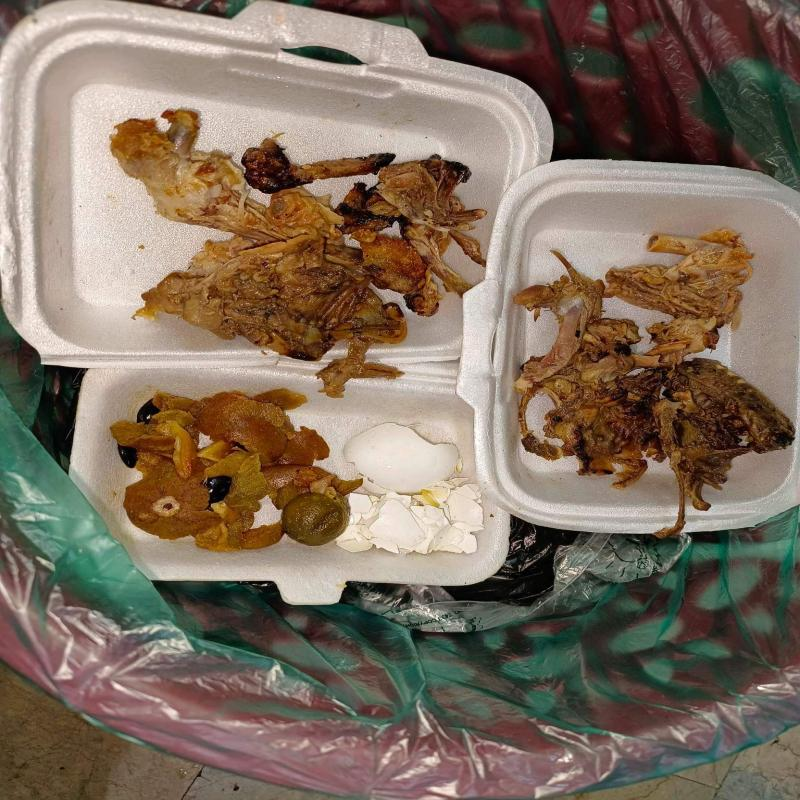egg shell: (335, 479, 485, 555), (343, 423, 459, 495)
fruit peels: (108, 389, 363, 554)
left-over food: (132, 229, 408, 395), (516, 357, 793, 516), (111, 109, 394, 247), (510, 247, 649, 427), (342, 161, 481, 316), (602, 228, 754, 367)
styrofoam containers: (0, 0, 555, 366), (456, 160, 800, 539), (68, 368, 511, 606)
